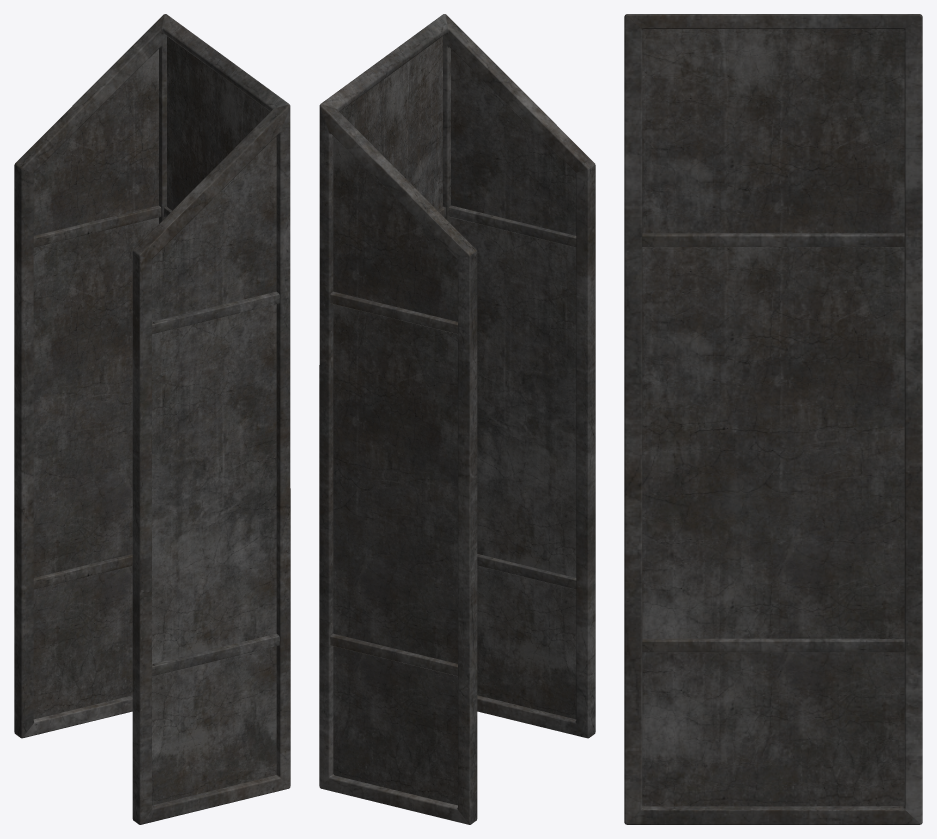
The model's file is Basement_Corridor_A_Utility_Area.glb.
3 renders of one model, left to right at view 1: azimuth 30°, elevation 25°; view 2: azimuth 150°, elevation 25°; view 3: azimuth 270°, elevation 25°, orthographic. The views are drawn at different scales.
Parts seen in each view (by area): view 1: Basement_Corridor_A_Utility_Area; view 2: Basement_Corridor_A_Utility_Area; view 3: Basement_Corridor_A_Utility_Area.
Part boxes in pixels (x1,y1,x2,y2): Basement_Corridor_A_Utility_Area: (14,14,290,824); Basement_Corridor_A_Utility_Area: (319,14,595,824); Basement_Corridor_A_Utility_Area: (624,14,922,824).
Bounding box in the file's own units: 0.6959 × 3 × 1.
1 material, 1 textured.
